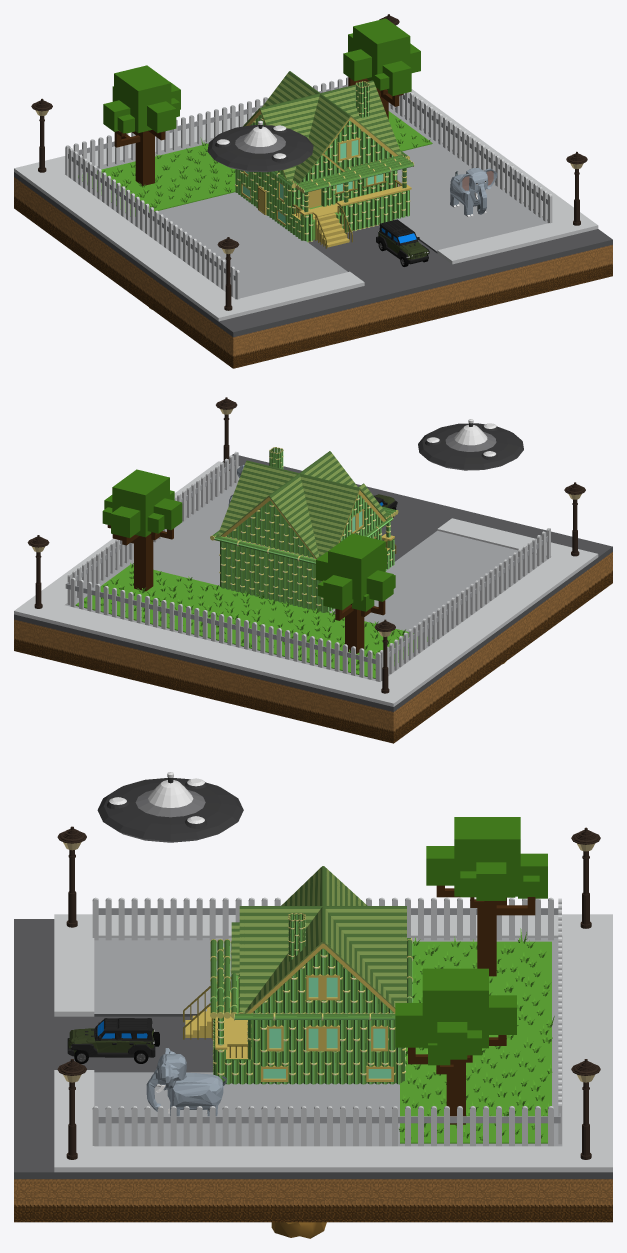
3 views of the same model, one above another, from view 1: azimuth 30°, elevation 25°; view 2: azimuth 150°, elevation 25°; view 3: azimuth 270°, elevation 25° (orthographic). The views are drawn at different scales.
Parts seen in each view (by area): view 1: Cube.004, Cube.1327, OBJRANDOM_UFO, ANIMAL_ELEFANTE, VEHICLES_JEEP; view 2: Cube.004, Cube.1327, OBJRANDOM_UFO; view 3: Cube.004, Cube.1327, OBJRANDOM_UFO, VEHICLES_JEEP, ANIMAL_ELEFANTE, UNDERGROUND_T_REX_BONES.
Boxes of the visible parts, x1,y1,x2,y2 form: Cube.004: (14, 14, 612, 368); Cube.1327: (235, 71, 414, 248); OBJRANDOM_UFO: (207, 120, 313, 172); ANIMAL_ELEFANTE: (450, 168, 497, 217); VEHICLES_JEEP: (376, 219, 429, 266); Cube.004: (14, 397, 612, 743); Cube.1327: (210, 447, 398, 612); OBJRANDOM_UFO: (418, 419, 523, 470); Cube.004: (14, 817, 612, 1222); Cube.1327: (183, 866, 413, 1084); OBJRANDOM_UFO: (97, 772, 243, 842); VEHICLES_JEEP: (67, 1018, 159, 1063); ANIMAL_ELEFANTE: (146, 1048, 226, 1116); UNDERGROUND_T_REX_BONES: (271, 1222, 326, 1238).
Bounding box in the file's own units: 4000 × 2055 × 4000.
Materials: 31 (4 with a texture image).
